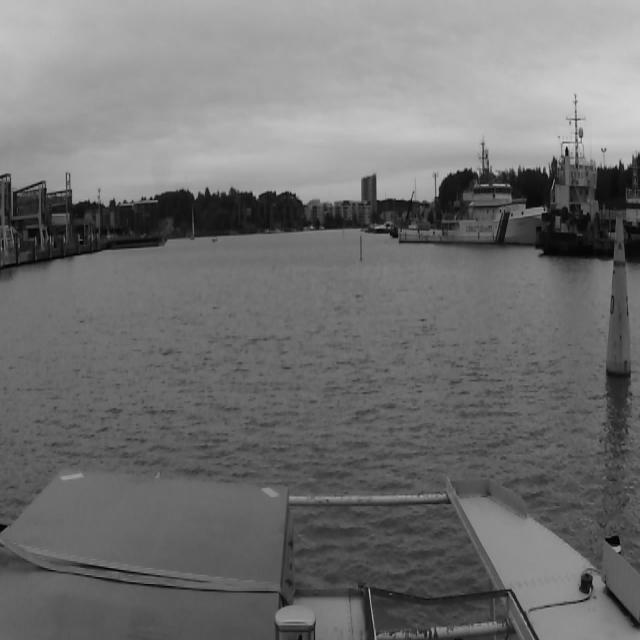buoy: (607, 212, 633, 374), (359, 235, 363, 258)
ship: (538, 84, 632, 256), (398, 184, 536, 249), (373, 220, 395, 233), (190, 206, 196, 238)
